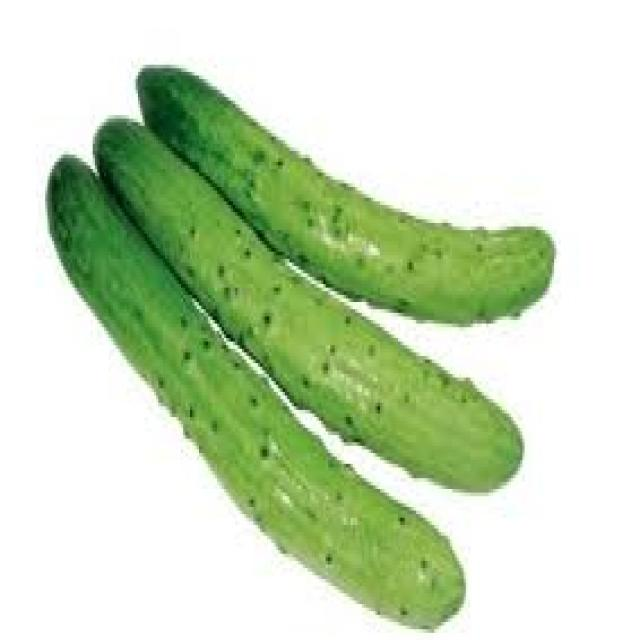cucumber: (39, 52, 545, 640)
